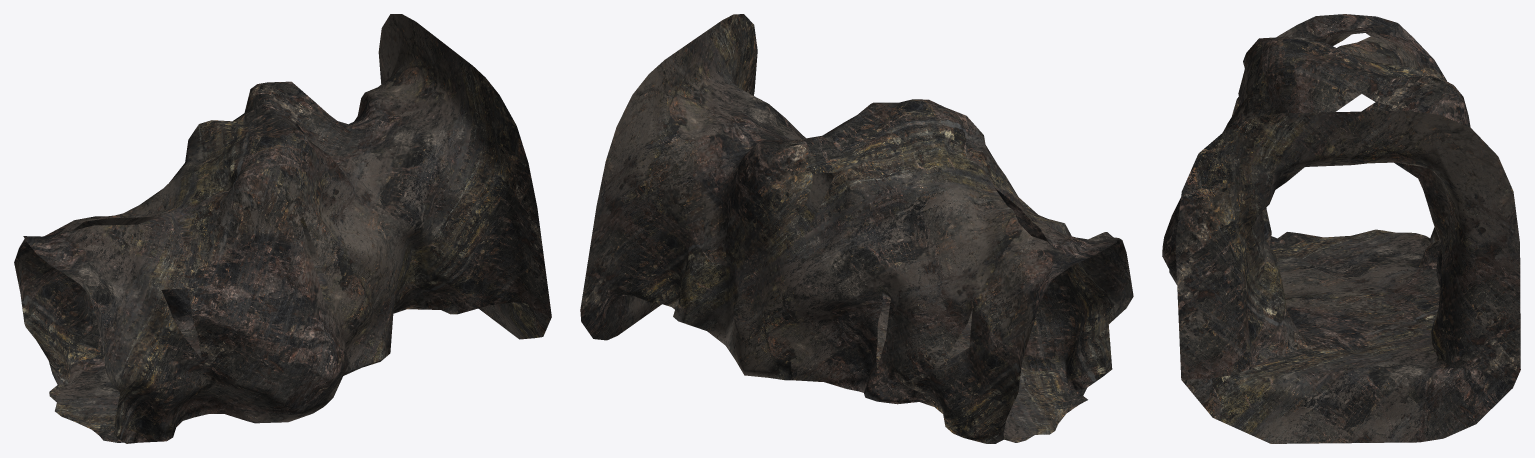
File: Module1(Clone).fbx
3 renders of one model, left to right at view 1: azimuth 30°, elevation 25°; view 2: azimuth 150°, elevation 25°; view 3: azimuth 270°, elevation 25°, orthographic. The views are drawn at different scales.
Visible parts, largest first — view 1: Module1_Clone_; view 2: Module1_Clone_; view 3: Module1_Clone_.
Boxes of the visible parts, x1=… form: Module1_Clone_: x1=14, y1=14, x2=551, y2=443; Module1_Clone_: x1=580, y1=14, x2=1133, y2=443; Module1_Clone_: x1=1162, y1=14, x2=1520, y2=443.
Bounding box in the file's own units: 1370 × 852 × 860.
